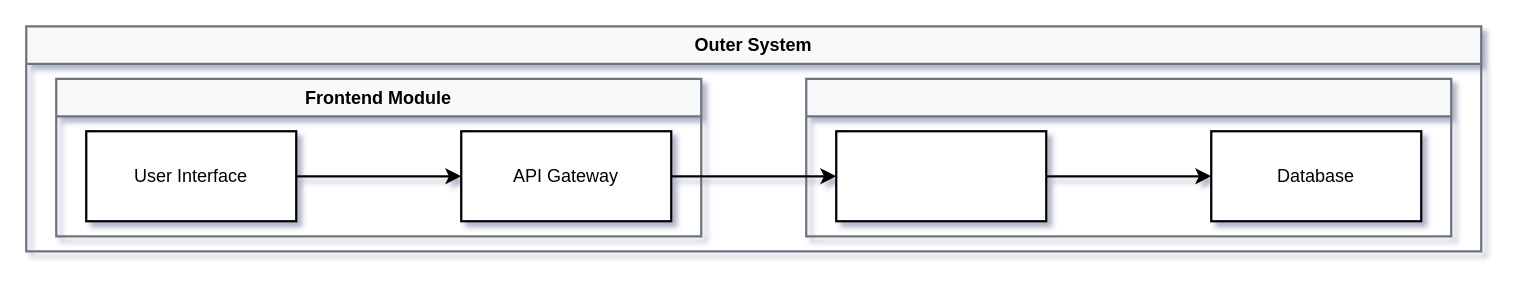
Image size: 1518x288. Some labels were removed from this diagram. The box of each missing label's shape, as (x1, y1, x2, y2) in pixels:
Backend Module: (804, 77, 1452, 237)
Service Layer: (834, 129, 1047, 222)
